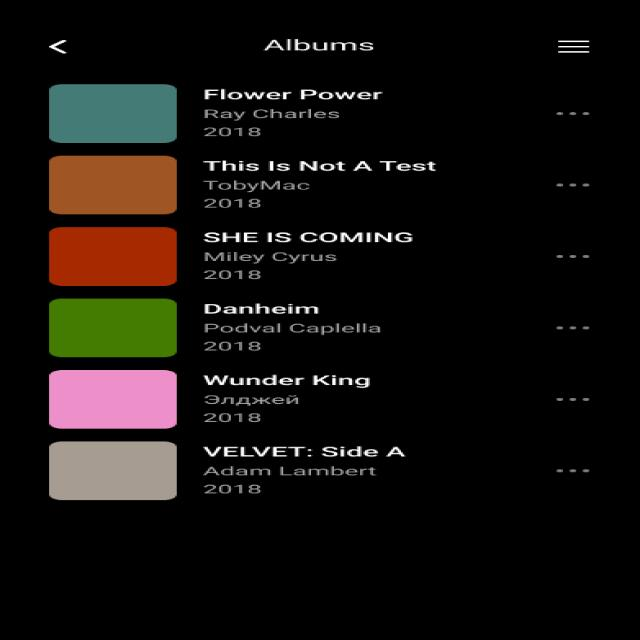icon button: (544, 28, 613, 70), (30, 22, 90, 64), (547, 241, 608, 274), (538, 99, 610, 126), (538, 385, 605, 412), (544, 456, 605, 485), (544, 316, 608, 340), (548, 176, 606, 196)
row: (14, 74, 634, 154), (27, 358, 623, 435), (24, 436, 624, 511), (24, 288, 624, 362), (14, 148, 626, 220), (20, 220, 621, 288)
text: (197, 294, 448, 356), (197, 76, 425, 140), (197, 442, 440, 502), (207, 368, 451, 427), (197, 226, 446, 283), (197, 158, 443, 211), (256, 30, 393, 61)
view: (34, 74, 200, 150), (30, 361, 202, 434), (30, 292, 200, 364), (20, 440, 194, 510), (30, 152, 189, 221), (36, 223, 192, 292)
